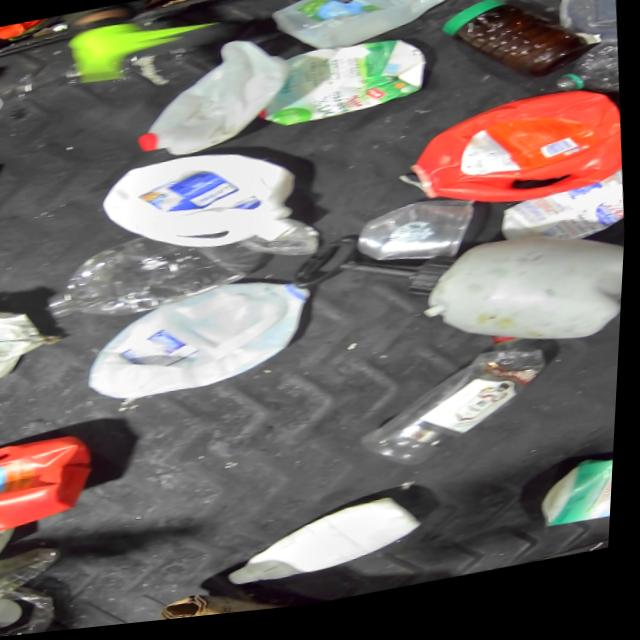milk_jug: (83, 280, 322, 412), (96, 141, 307, 279), (221, 496, 433, 601), (129, 36, 297, 164), (261, 0, 477, 67)
non_white_jug: (409, 95, 629, 236), (0, 429, 104, 532)
plastic_bottle: (358, 336, 561, 485), (39, 224, 250, 330)
